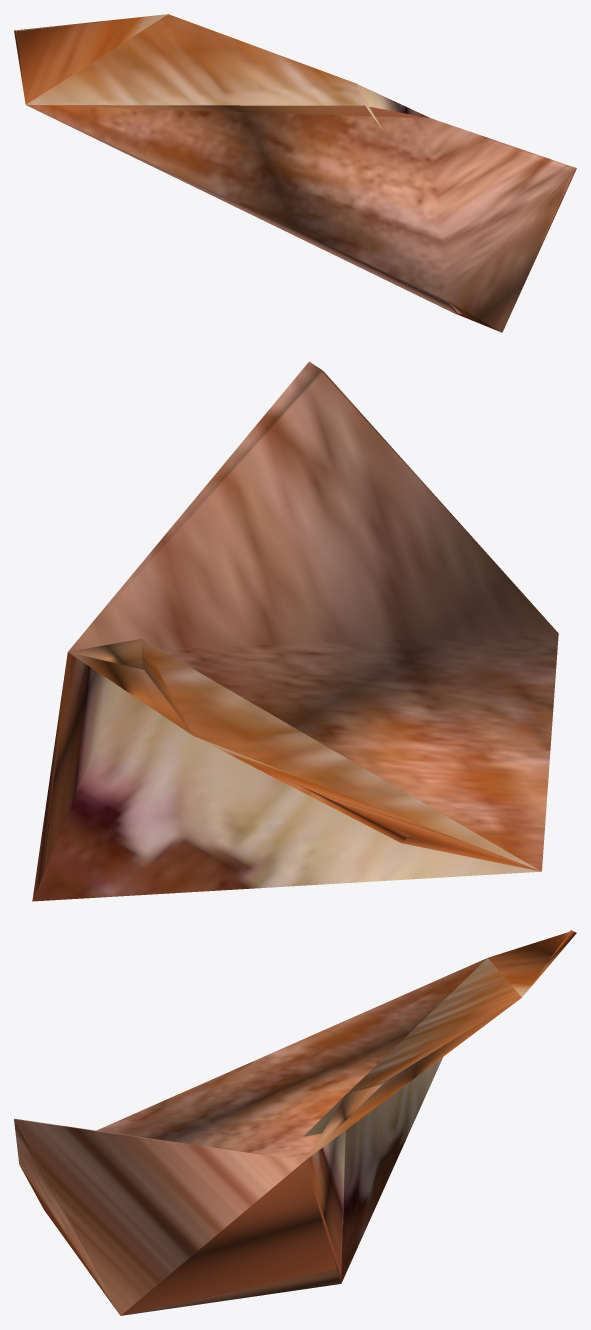
Rendered from eclaire_92.obj.
The picture shows the model from 3 angles, top to bottom: view 1: azimuth 30°, elevation 25°; view 2: azimuth 150°, elevation 25°; view 3: azimuth 270°, elevation 25°; orthographic projection. The views are drawn at different scales.
Size of the model in its own units: 45.39 by 28.58 by 60.99.
Materials: 1 (1 with a texture image).
